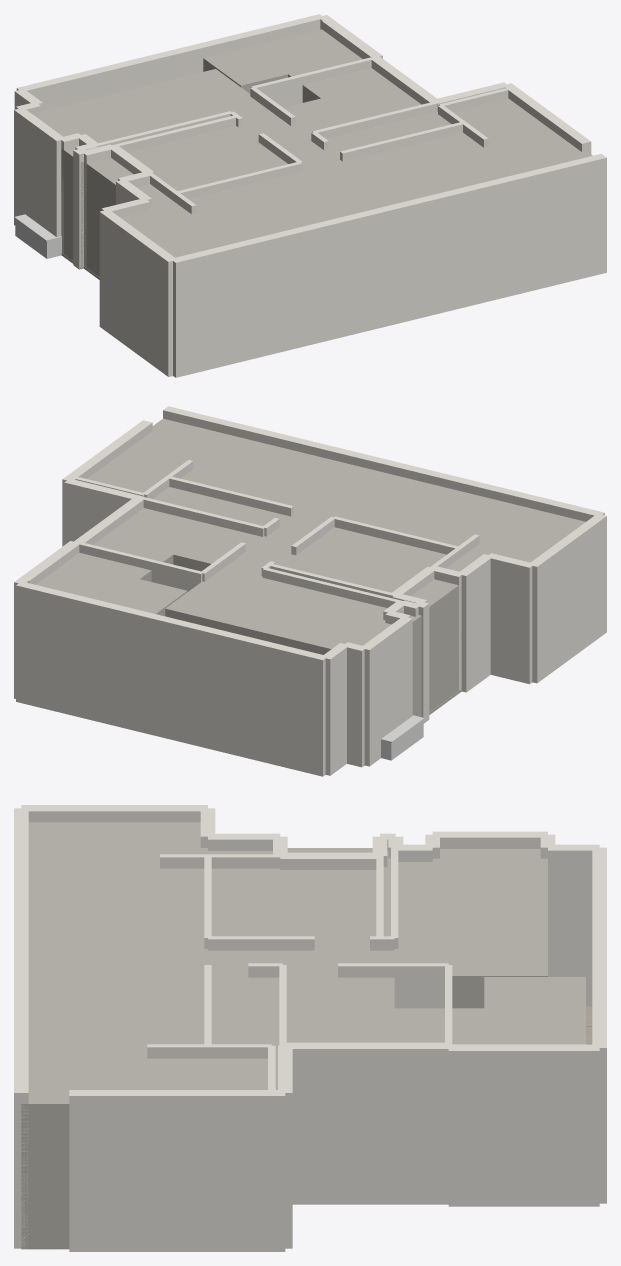
Rendered from house_design_demo_empty_v02.glb.
3 renders of one model, top to bottom at view 1: azimuth 30°, elevation 25°; view 2: azimuth 150°, elevation 25°; view 3: azimuth 270°, elevation 25°, orthographic. The views are drawn at different scales.
Visible parts, largest first — view 1: WALL_EXT_007, ROOM_VOLUME_LIVING_ROOM, ROOM_VOLUME_MASTER_BEDROOM, WALL_EXT_008, ROOM_VOLUME_DINING, ROOM_VOLUME_BEDROOM_01, WALL_EXT_001, WALL_EXT_018, ROOM_VOLUME_KITCHEN, ROOM_VOLUME_BEDROOM_02, ROOM_VOLUME_ENTRY, ROOM_VOLUME_BALCONY (+26 smaller); view 2: WALL_EXT_001, ROOM_VOLUME_MASTER_BEDROOM, ROOM_VOLUME_LIVING_ROOM, ROOM_VOLUME_BEDROOM_01, WALL_EXT_008, ROOM_VOLUME_DINING, WALL_EXT_007, WALL_EXT_018, WALL_EXT_009, ROOM_VOLUME_KITCHEN, WALL_EXT_010, ROOM_VOLUME_BEDROOM_02 (+25 smaller); view 3: WALL_EXT_006, WALL_EXT_004, ROOM_VOLUME_LIVING_ROOM, WALL_EXT_002, ROOM_VOLUME_MASTER_BEDROOM, ROOM_VOLUME_DINING, ROOM_VOLUME_KITCHEN, ROOM_VOLUME_BEDROOM_01, ROOM_VOLUME_BALCONY, ROOM_VOLUME_ENTRY, WALL_EXT_020, WALL_EXT_007 (+22 smaller).
Part boxes in pixels (bbox=[...]): WALL_EXT_007: bbox=[171, 153, 606, 377]; ROOM_VOLUME_LIVING_ROOM: bbox=[120, 161, 398, 256]; ROOM_VOLUME_MASTER_BEDROOM: bbox=[35, 69, 268, 266]; WALL_EXT_008: bbox=[99, 209, 174, 376]; ROOM_VOLUME_DINING: bbox=[326, 111, 521, 202]; ROOM_VOLUME_BEDROOM_01: bbox=[84, 126, 287, 276]; WALL_EXT_001: bbox=[16, 14, 323, 110]; WALL_EXT_018: bbox=[14, 109, 62, 236]; ROOM_VOLUME_KITCHEN: bbox=[453, 98, 592, 172]; ROOM_VOLUME_BEDROOM_02: bbox=[302, 68, 421, 121]; ROOM_VOLUME_ENTRY: bbox=[241, 98, 377, 169]; ROOM_VOLUME_BALCONY: bbox=[121, 201, 232, 257]; WALL_EXT_001: bbox=[16, 581, 327, 776]; ROOM_VOLUME_MASTER_BEDROOM: bbox=[165, 563, 421, 717]; ROOM_VOLUME_LIVING_ROOM: bbox=[292, 466, 583, 562]; ROOM_VOLUME_BEDROOM_01: bbox=[279, 527, 474, 712]; WALL_EXT_008: bbox=[528, 514, 606, 683]; ROOM_VOLUME_DINING: bbox=[153, 436, 358, 525]; WALL_EXT_007: bbox=[163, 406, 604, 521]; WALL_EXT_018: bbox=[360, 616, 412, 766]; WALL_EXT_009: bbox=[486, 553, 532, 684]; ROOM_VOLUME_KITCHEN: bbox=[87, 418, 234, 492]; WALL_EXT_010: bbox=[457, 554, 490, 692]; ROOM_VOLUME_BEDROOM_02: bbox=[93, 508, 213, 564]; WALL_EXT_006: bbox=[69, 1090, 285, 1251]; WALL_EXT_004: bbox=[285, 1042, 448, 1204]; ROOM_VOLUME_LIVING_ROOM: bbox=[28, 822, 207, 975]; WALL_EXT_002: bbox=[448, 1044, 599, 1206]; ROOM_VOLUME_MASTER_BEDROOM: bbox=[383, 849, 547, 1008]; ROOM_VOLUME_DINING: bbox=[28, 976, 279, 1056]; ROOM_VOLUME_KITCHEN: bbox=[21, 1057, 277, 1248]; ROOM_VOLUME_BEDROOM_01: bbox=[208, 848, 376, 948]; ROOM_VOLUME_BALCONY: bbox=[28, 822, 207, 866]; ROOM_VOLUME_ENTRY: bbox=[208, 949, 394, 1008]; WALL_EXT_020: bbox=[548, 844, 599, 1006]; WALL_EXT_007: bbox=[14, 808, 28, 1248].
Bounding box in the file's own units: 11.22 × 2.81 × 9.66.
6 materials, 1 textured.
